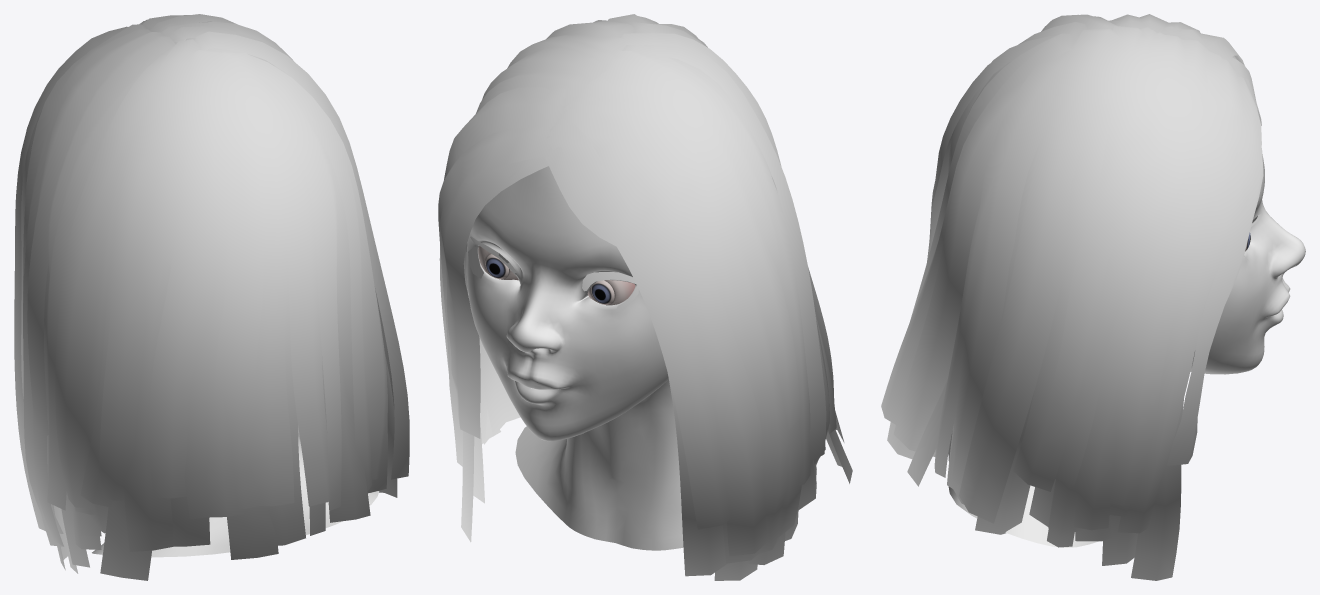
File: Head_01.fbx
The picture shows the model from 3 angles, left to right: view 1: azimuth 30°, elevation 25°; view 2: azimuth 150°, elevation 25°; view 3: azimuth 270°, elevation 25°; orthographic projection. The views are drawn at different scales.
Parts seen in each view (by area): view 1: Group4123; view 2: Group4123; view 3: Group4123.
Boxes of the visible parts, x1,y1,x2,y2 form: Group4123: (14, 14, 409, 580); Group4123: (438, 14, 852, 580); Group4123: (881, 14, 1305, 580).
Size of the model in its own units: 0.0231 by 0.0338 by 0.0261.
Materials: 3 (1 with a texture image).
